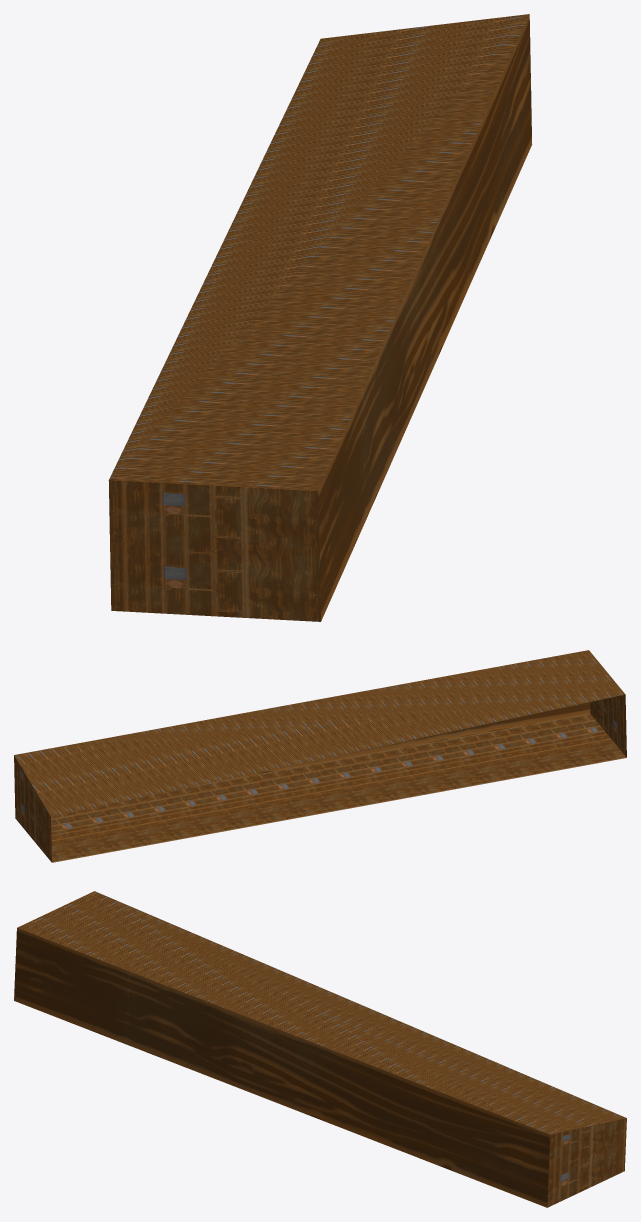
3 renders of one model, top to bottom at view 1: azimuth 30°, elevation 25°; view 2: azimuth 150°, elevation 25°; view 3: azimuth 270°, elevation 25°, orthographic. The views are drawn at different scales.
Visible parts, largest first — view 1: Cube.2049; view 2: Cube.2049; view 3: Cube.2049.
Boxes of the visible parts, bbox=[...] form: Cube.2049: bbox=[108, 14, 532, 621]; Cube.2049: bbox=[14, 650, 626, 862]; Cube.2049: bbox=[14, 891, 626, 1207].
Size of the model in its own units: 171 by 32.95 by 195.
1 material, 1 textured.
